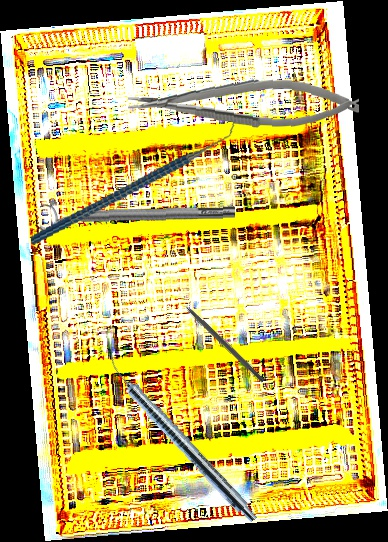Chopper: (16, 116, 254, 245)
Fixation Ring: (39, 198, 236, 233)
Handpiece: (99, 352, 263, 526)
Hook Surgical: (173, 293, 267, 384)
Needle Holder: (126, 70, 361, 134)
